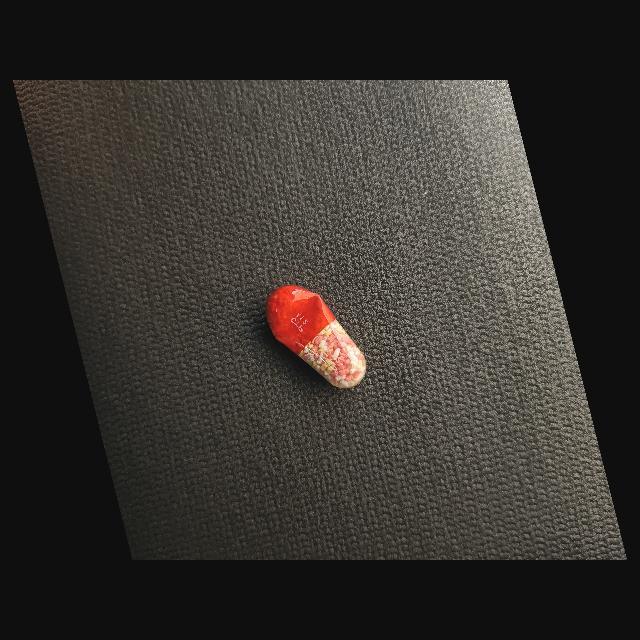Defective Capsule: (266, 285, 366, 388)
